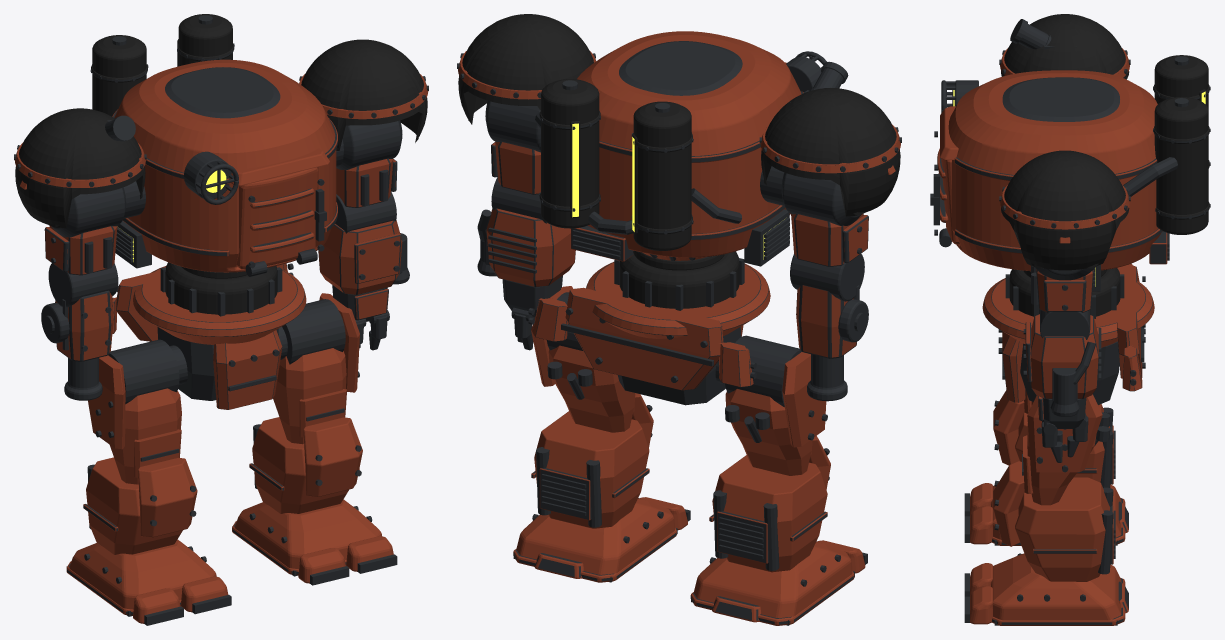
File: Titan_H1.fbx
3 views of the same model, side by side, from view 1: azimuth 30°, elevation 25°; view 2: azimuth 150°, elevation 25°; view 3: azimuth 270°, elevation 25° (orthographic). The views are drawn at different scales.
Visible parts, largest first — view 1: H1_Torso_Upper, H1_Pelvis, H1_Shoulder_R, H1_Thigh_R, H1_Thigh_L, H1_Shoulder_L, H1_Shin_R, H1_Shin_L, H1_Hatch, H1_Cannon, H1_Forearm_L, H1_Foot_L (+12 smaller); view 2: H1_Torso_Upper, H1_Pelvis, H1_Shoulder_R, H1_Shin_R, H1_Shin_L, H1_Thigh_R, H1_Shoulder_L, H1_Tank_R, H1_Tank_L, H1_Foot_L, H1_Foot_R, H1_Cannon (+11 smaller); view 3: H1_Torso_Upper, H1_Shoulder_L, H1_Shin_L, H1_Pelvis, H1_Foot_L, H1_Tank_L, H1_Forearm_L, H1_Shoulder_R, H1_Thigh_L, H1_Shin_R, H1_UpperArm_L, H1_Tank_R (+10 smaller).
Part boxes in pixels (bbox=[...]): H1_Torso_Upper: bbox=[112, 59, 337, 272]; H1_Pelvis: bbox=[112, 263, 306, 409]; H1_Shoulder_R: bbox=[14, 108, 146, 228]; H1_Thigh_R: bbox=[88, 339, 181, 484]; H1_Thigh_L: bbox=[273, 293, 359, 444]; H1_Shoulder_L: bbox=[299, 39, 428, 150]; H1_Shin_R: bbox=[83, 457, 197, 554]; H1_Shin_L: bbox=[249, 417, 362, 513]; H1_Hatch: bbox=[236, 167, 326, 276]; H1_Cannon: bbox=[41, 263, 118, 400]; H1_Forearm_L: bbox=[318, 191, 409, 294]; H1_Foot_L: bbox=[232, 499, 381, 576]; H1_Torso_Upper: bbox=[571, 31, 803, 261]; H1_Pelvis: bbox=[528, 262, 770, 405]; H1_Shoulder_R: bbox=[759, 61, 901, 216]; H1_Shin_R: bbox=[709, 436, 830, 572]; H1_Shin_L: bbox=[531, 393, 653, 528]; H1_Thigh_R: bbox=[725, 335, 827, 475]; H1_Shoulder_L: bbox=[457, 14, 595, 124]; H1_Tank_R: bbox=[631, 101, 693, 250]; H1_Tank_L: bbox=[539, 79, 600, 228]; H1_Foot_L: bbox=[513, 498, 677, 582]; H1_Foot_R: bbox=[690, 542, 854, 625]; H1_Cannon: bbox=[790, 254, 868, 401]; H1_Torso_Upper: bbox=[940, 70, 1169, 271]; H1_Shoulder_L: bbox=[999, 150, 1130, 270]; H1_Shin_L: bbox=[993, 461, 1115, 581]; H1_Pelvis: bbox=[982, 263, 1154, 404]; H1_Foot_L: bbox=[991, 553, 1128, 625]; H1_Tank_L: bbox=[1153, 96, 1210, 234]; H1_Forearm_L: bbox=[1023, 310, 1101, 416]; H1_Shoulder_R: bbox=[999, 14, 1130, 79]; H1_Thigh_L: bbox=[1022, 393, 1110, 505]; H1_Shin_R: bbox=[993, 390, 1115, 487]; H1_UpperArm_L: bbox=[1031, 266, 1094, 312]; H1_Tank_R: bbox=[1153, 55, 1210, 168].
Bounding box in the file's own units: 5.09 × 5.96 × 3.12.
